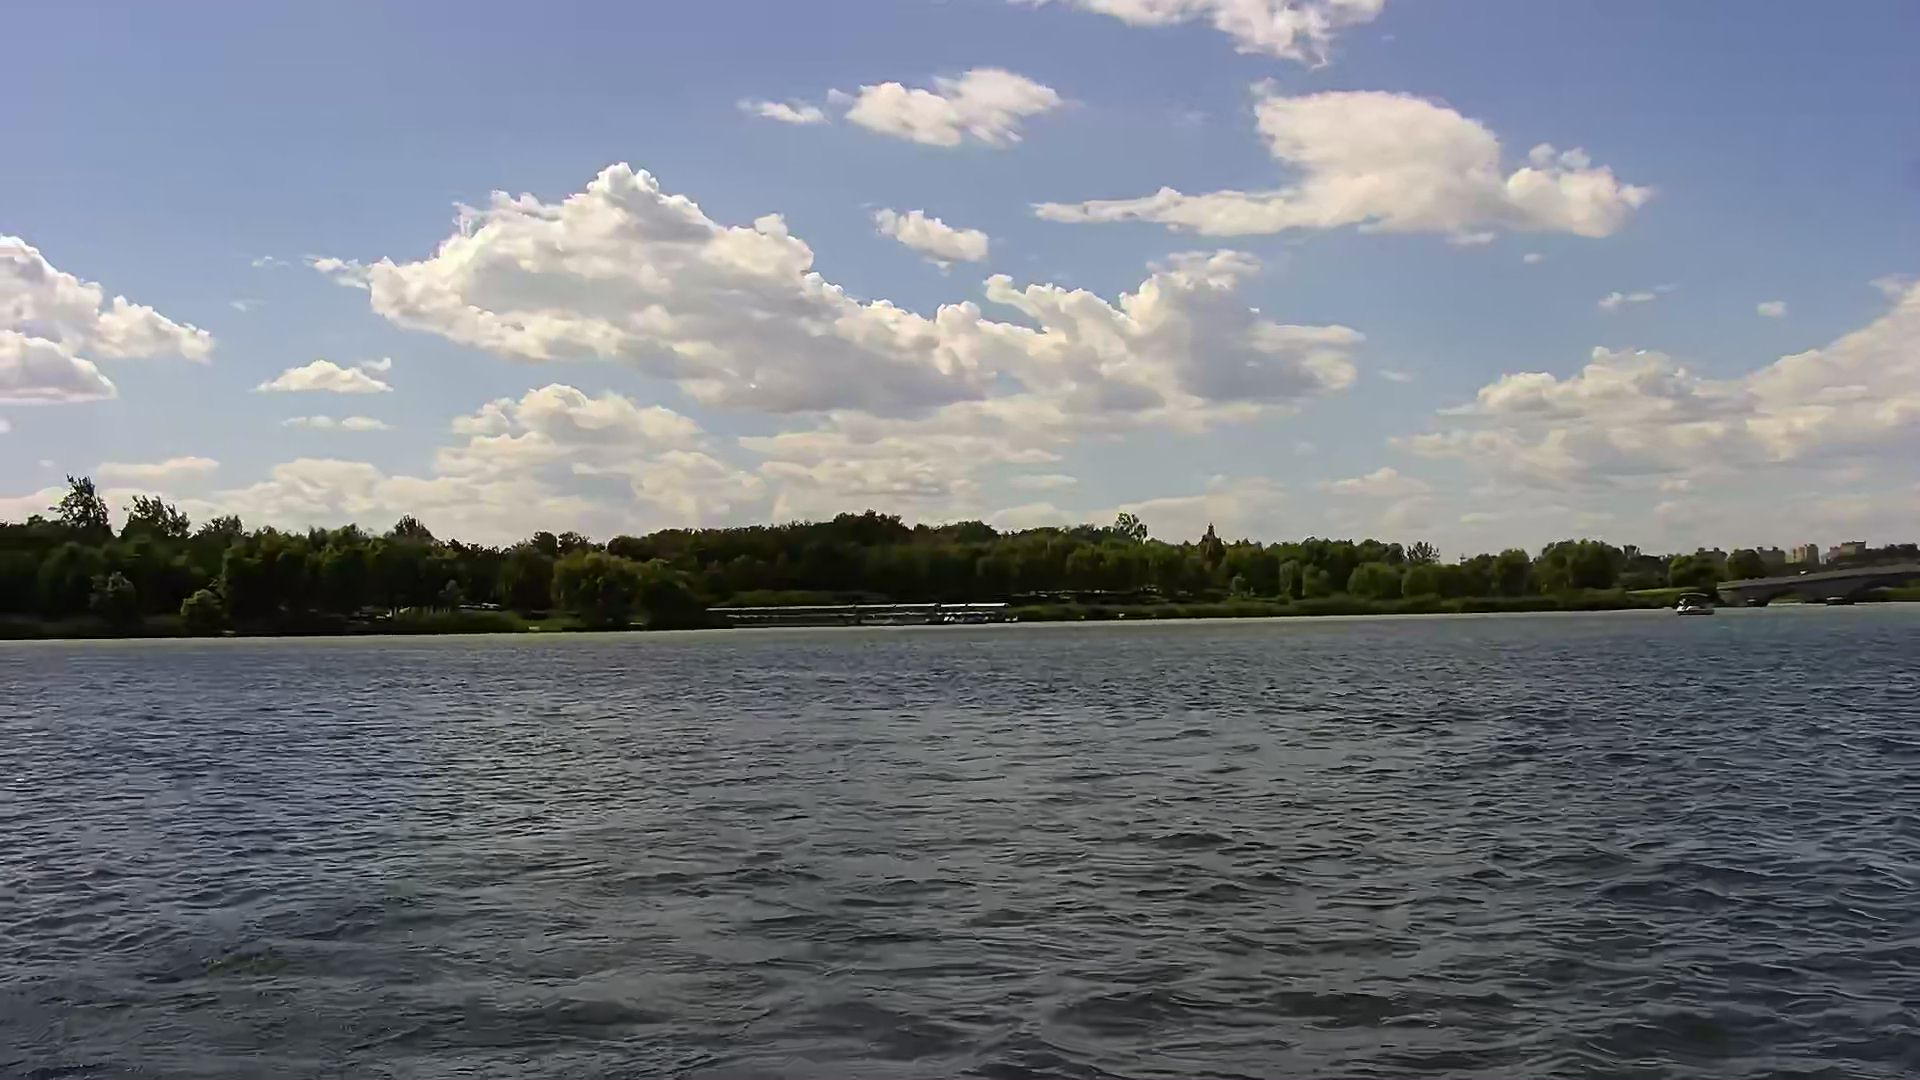boat: (1673, 587, 1714, 613)
bridge: (1718, 564, 1919, 600)
harbor: (707, 595, 1011, 628)
